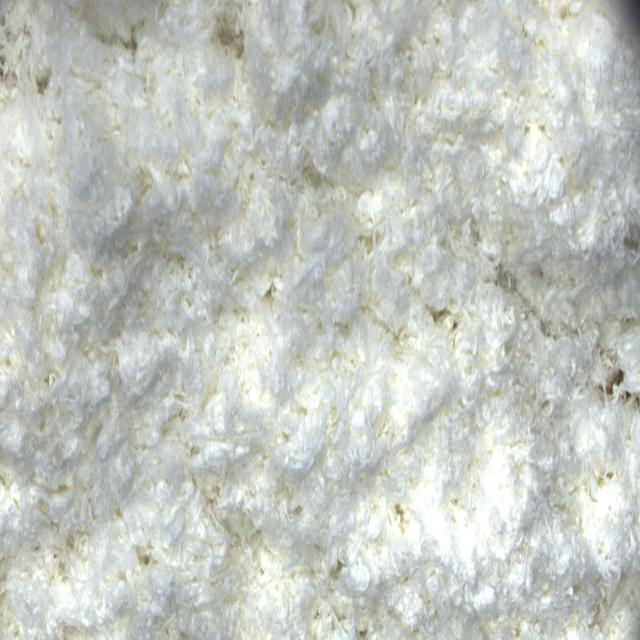dust: (610, 367, 636, 416)
